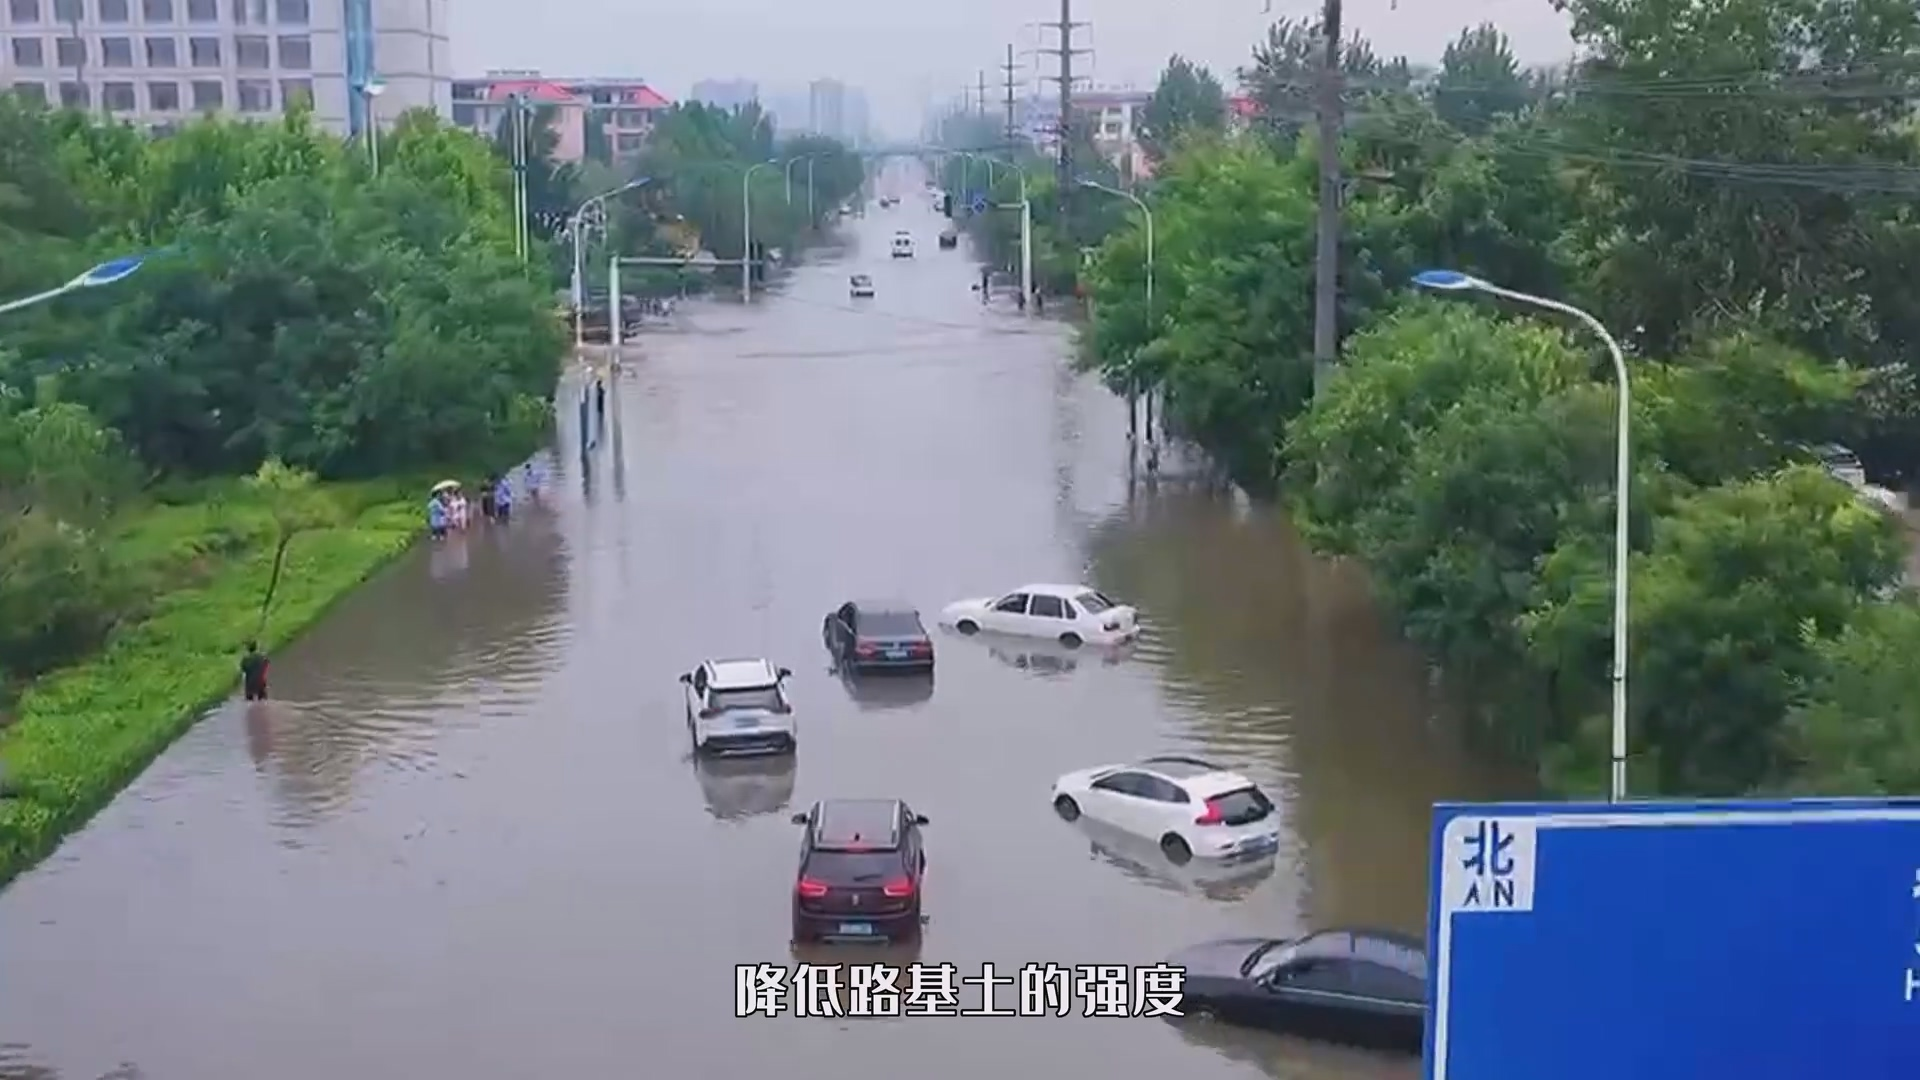puddle: (108, 433, 1418, 1064)
